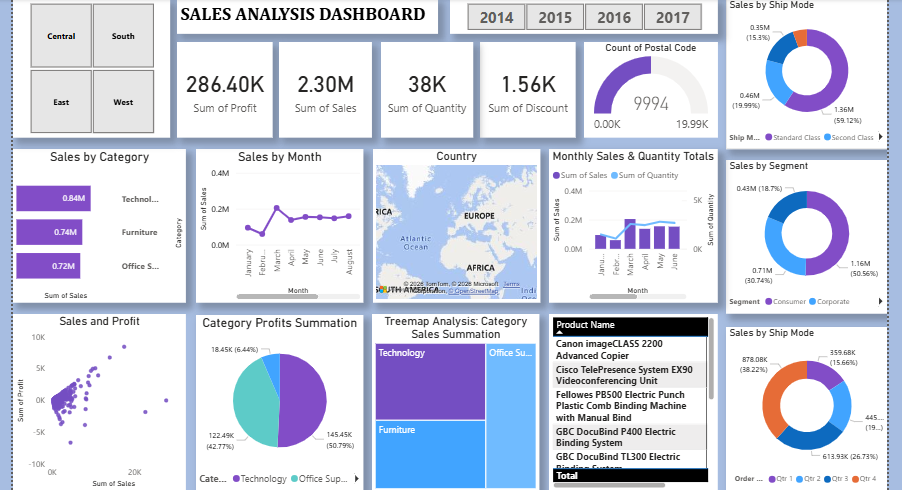

The page's visual inventory and layout, read from the dashboard file:
{"tool":"powerbi","page":{"name":"Page 1","canvas":[1280,720],"ordinal":0},"visuals":[{"type":"barChart","title":" Sales by Category","fields":{"Y":["Sum(sample_-_superstore xls - Orders.Sales)"],"Category":["sample_-_superstore xls - Orders.Category"]},"box":[0,219.5,253.2,225.4],"z":0},{"type":"scatterChart","title":"Sales and Profit ","fields":{"X":["Sum(sample_-_superstore xls - Orders.Sales)"],"Y":["Sum(sample_-_superstore xls - Orders.Profit)"],"Category":["sample_-_superstore xls - Orders.Profit"]},"box":[0,461,253.2,259],"z":1000},{"type":"slicer","fields":{"Values":["sample_-_superstore xls - Orders.Region"]},"box":[0,0,229.8,203.4],"z":2000},{"type":"lineChart","title":"Sales by Month","fields":{"Category":["sample_-_superstore xls - Orders.Order Date.Variation.Date Hierarchy.Year","sample_-_superstore xls - Orders.Order Date.Variation.Date Hierarchy.Quarter","sample_-_superstore xls - Orders.Order Date.Variation.Date Hierarchy.Month","sample_-_superstore xls - Orders.Order Date.Variation.Date Hierarchy.Day"],"Y":["Sum(sample_-_superstore xls - Orders.Sales)"]},"box":[267.1,220.1,245.2,225.1],"z":3000},{"type":"pieChart","title":"Category Profits Summation","fields":{"Y":["Sum(sample_-_superstore xls - Orders.Profit)"],"Category":["sample_-_superstore xls - Orders.Category"]},"box":[267.1,461.9,245.2,258.7],"z":4000},{"type":"donutChart","title":" Sales by Ship Mode","fields":{"Y":["Sum(sample_-_superstore xls - Orders.Sales)"],"Category":["sample_-_superstore xls - Orders.Ship Mode"]},"box":[1043.1,0,236.9,220.1],"z":5000},{"type":"donutChart","title":" Sales by Segment","fields":{"Y":["Sum(sample_-_superstore xls - Orders.Sales)"],"Category":["sample_-_superstore xls - Orders.Segment"]},"box":[1043.1,235.2,236.9,225.1],"z":6000},{"type":"donutChart","title":" Sales by Ship Mode","fields":{"Y":["Sum(sample_-_superstore xls - Orders.Sales)"],"Category":["sample_-_superstore xls - Orders.Order Date.Variation.Date Hierarchy.Year","sample_-_superstore xls - Orders.Order Date.Variation.Date Hierarchy.Quarter","sample_-_superstore xls - Orders.Order Date.Variation.Date Hierarchy.Month","sample_-_superstore xls - Orders.Order Date.Variation.Date Hierarchy.Day"]},"box":[1043.1,480.4,236.9,240.2],"z":7000},{"type":"textbox","box":[240,0,382,51.2],"z":8000},{"type":"slicer","fields":{"Values":["sample_-_superstore xls - Orders.Order Date.Variation.Date Hierarchy.Year"]},"box":[639.5,0,392.2,51.2],"z":9000},{"type":"map","fields":{"Category":["sample_-_superstore xls - Orders.Country"]},"box":[526.2,220,245,225],"z":10000},{"type":"lineStackedColumnComboChart","title":"Monthly Sales & Quantity Totals","fields":{"Category":["sample_-_superstore xls - Orders.Order Date.Variation.Date Hierarchy.Year","sample_-_superstore xls - Orders.Order Date.Variation.Date Hierarchy.Quarter","sample_-_superstore xls - Orders.Order Date.Variation.Date Hierarchy.Month","sample_-_superstore xls - Orders.Order Date.Variation.Date Hierarchy.Day"],"Y2":["Sum(sample_-_superstore xls - Orders.Quantity)"],"Y":["Sum(sample_-_superstore xls - Orders.Sales)"]},"box":[784.5,220.1,246.9,225.1],"z":11000},{"type":"treemap","title":"Treemap Analysis: Category Sales Summation","fields":{"Values":["Sum(sample_-_superstore xls - Orders.Sales)"],"Details":["sample_-_superstore xls - Orders.Category"]},"box":[525.8,460.3,245.2,260.4],"z":12000},{"type":"card","fields":{"Values":["Sum(sample_-_superstore xls - Orders.Profit)"]},"box":[240,62.9,140.5,140.5],"z":13000},{"type":"card","fields":{"Values":["Sum(sample_-_superstore xls - Orders.Discount)"]},"box":[683.4,62.9,140.5,140.5],"z":14000},{"type":"card","fields":{"Values":["Sum(sample_-_superstore xls - Orders.Sales)"]},"box":[389.3,62.9,136.1,140.5],"z":15000},{"type":"card","fields":{"Values":["Sum(sample_-_superstore xls - Orders.Quantity)"]},"box":[538.5,62.9,134.6,140.5],"z":16000},{"type":"gauge","fields":{"Y":["CountNonNull(sample_-_superstore xls - Orders.Postal Code)"]},"box":[835.6,62.9,196.1,140.5],"z":17000},{"type":"tableEx","fields":{"Values":["sample_-_superstore xls - Orders.Product Name","Sum(sample_-_superstore xls - Orders.Sales)"]},"box":[784.5,460.3,246.9,260.4],"z":18000}]}

Visuals, with their boxes in screenshot pixels (x1, y1, x2, y2):
" Sales by Category" barChart: region(21, 148, 191, 299)
"Sales and Profit " scatterChart: region(21, 310, 191, 484)
slicer - sample_-_superstore xls - Orders.Region: region(21, 0, 176, 137)
"Sales by Month" lineChart: region(201, 148, 366, 299)
"Category Profits Summation" pieChart: region(201, 311, 366, 485)
" Sales by Ship Mode" donutChart: region(723, 0, 882, 148)
" Sales by Segment" donutChart: region(723, 158, 882, 310)
" Sales by Ship Mode" donutChart: region(723, 323, 882, 485)
textbox: region(183, 0, 439, 34)
slicer - sample_-_superstore xls - Orders.Order Date.Variation.Date Hierarchy.Year: region(451, 0, 715, 34)
map - sample_-_superstore xls - Orders.Country: region(375, 148, 540, 299)
"Monthly Sales & Quantity Totals" lineStackedColumnComboChart: region(549, 148, 715, 299)
"Treemap Analysis: Category Sales Summation" treemap: region(375, 310, 540, 485)
card - Sum(sample_-_superstore xls - Orders.Profit): region(183, 42, 277, 137)
card - Sum(sample_-_superstore xls - Orders.Discount): region(481, 42, 575, 137)
card - Sum(sample_-_superstore xls - Orders.Sales): region(283, 42, 374, 137)
card - Sum(sample_-_superstore xls - Orders.Quantity): region(383, 42, 474, 137)
gauge - CountNonNull(sample_-_superstore xls - Orders.Postal Code): region(583, 42, 715, 137)
tableEx - sample_-_superstore xls - Orders.Product Name x Sum(sample_-_superstore xls - Orders.Sales): region(549, 310, 715, 485)
